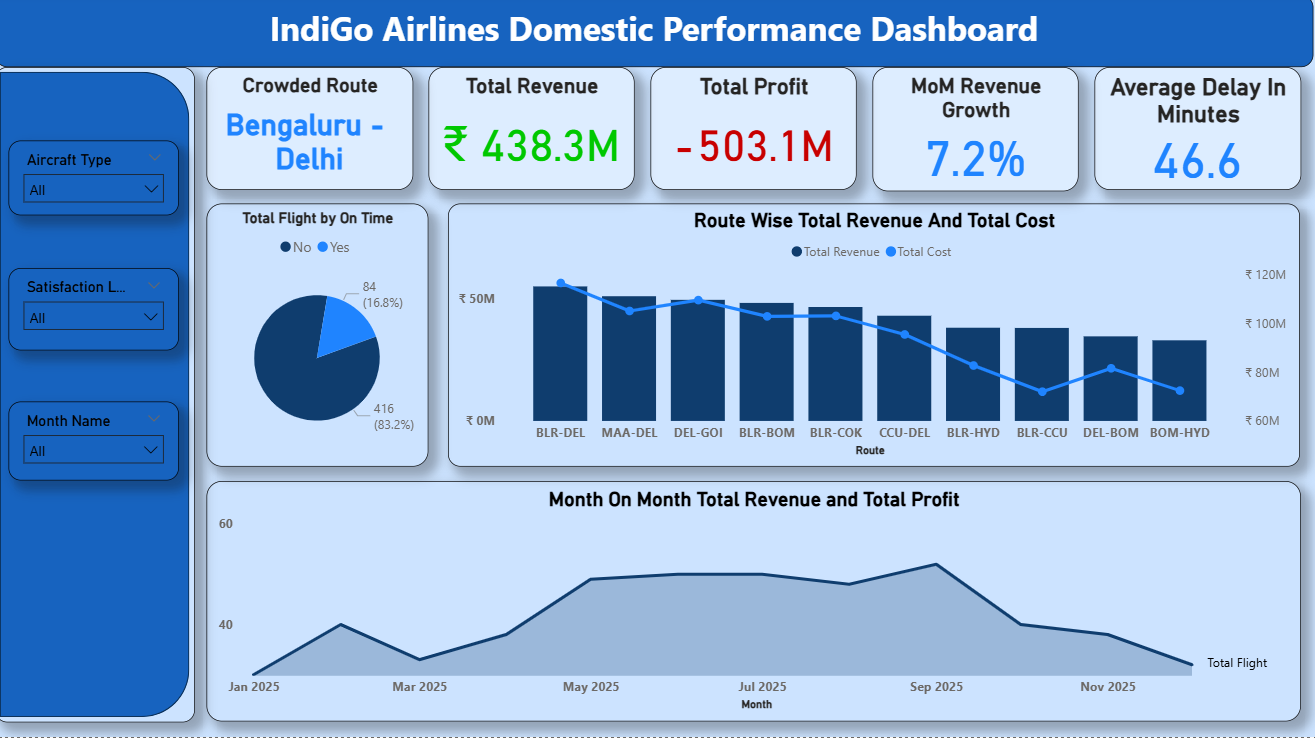

Layout of this report page (visuals, bound fields, positions):
{"tool":"powerbi","page":{"name":"Performance Analysis","canvas":[1280,720],"ordinal":0},"visuals":[{"type":"lineClusteredColumnComboChart","title":"Route Wise Total Revenue And Total Cost","fields":{"Category":["IndiGo_Flight_Cleaned_Data.Route"],"Y":["Measures Table.Total Revenue"],"Y2":["Measures Table.Total Cost"]},"box":[440,201.7,826.7,255],"z":0},{"type":"stackedAreaChart","title":"Month On Month Total Revenue and Total Profit","fields":{"Category":["Date.Date.Variation.Date Hierarchy.Year","Date.Date.Variation.Date Hierarchy.Month"],"Y":["Measures Table.Total Flight"]},"box":[205,471.7,1061.7,233.3],"z":1000},{"type":"textbox","box":[0,0,1279.4,69.9],"z":2000},{"type":"card","title":"Total Revenue","fields":{"Values":["Measures Table.Total Revenue"]},"box":[420.7,69.6,200,119.3],"z":3000},{"type":"card","title":"Average Delay In Minutes","fields":{"Values":["Measures Table.Average_Delay_in_minutes"]},"box":[1066.8,69.6,200.4,119.3],"z":4000},{"type":"card","title":"MoM Revenue Growth","fields":{"Values":["Measures Table.MoM growth %"]},"box":[851.4,69.6,200,120.9],"z":5000},{"type":"card","title":"Total Profit","fields":{"Values":["Measures Table.Total Profit"]},"box":[636.1,69.6,200,119.3],"z":6000},{"type":"shape","box":[0,69.6,193.8,636.1],"z":7000},{"type":"slicer","fields":{"Values":["IndiGo_Flight_Cleaned_Data.Aircraft_Type"]},"box":[13.3,140.8,165.6,72.9],"z":8000},{"type":"card","title":"Crowded Route","fields":{"Values":["Measures Table.Top_Route_with_revenue"]},"box":[205.4,69.6,200.4,119.3],"z":9000},{"type":"slicer","fields":{"Values":["IndiGo_Flight_Cleaned_Data.Satisfaction Level"]},"box":[13.3,264.3,165,80],"z":10000},{"type":"slicer","fields":{"Values":["Date.Month Name"]},"box":[13.3,395,165,76.7],"z":11000},{"type":"pieChart","title":"Total Flight by On Time","fields":{"Category":["IndiGo_Flight_Cleaned_Data.On_Time"],"Y":["Measures Table.Total Flight"]},"box":[205,201.7,215,255],"z":12000}]}

Visuals, with their boxes in screenshot pixels (x1, y1, x2, y2), scaled from the page's 1280x720 canvas onto the 1315x738 screenshot:
"Route Wise Total Revenue And Total Cost" lineClusteredColumnComboChart: {"x1": 452, "y1": 207, "x2": 1301, "y2": 468}
"Month On Month Total Revenue and Total Profit" stackedAreaChart: {"x1": 211, "y1": 483, "x2": 1301, "y2": 723}
textbox: {"x1": 0, "y1": 0, "x2": 1314, "y2": 72}
"Total Revenue" card: {"x1": 432, "y1": 71, "x2": 638, "y2": 194}
"Average Delay In Minutes" card: {"x1": 1096, "y1": 71, "x2": 1302, "y2": 194}
"MoM Revenue Growth" card: {"x1": 875, "y1": 71, "x2": 1080, "y2": 195}
"Total Profit" card: {"x1": 653, "y1": 71, "x2": 859, "y2": 194}
shape: {"x1": 0, "y1": 71, "x2": 199, "y2": 723}
slicer - IndiGo_Flight_Cleaned_Data.Aircraft_Type: {"x1": 14, "y1": 144, "x2": 184, "y2": 219}
"Crowded Route" card: {"x1": 211, "y1": 71, "x2": 417, "y2": 194}
slicer - IndiGo_Flight_Cleaned_Data.Satisfaction Level: {"x1": 14, "y1": 271, "x2": 183, "y2": 353}
slicer - Date.Month Name: {"x1": 14, "y1": 405, "x2": 183, "y2": 483}
"Total Flight by On Time" pieChart: {"x1": 211, "y1": 207, "x2": 431, "y2": 468}
